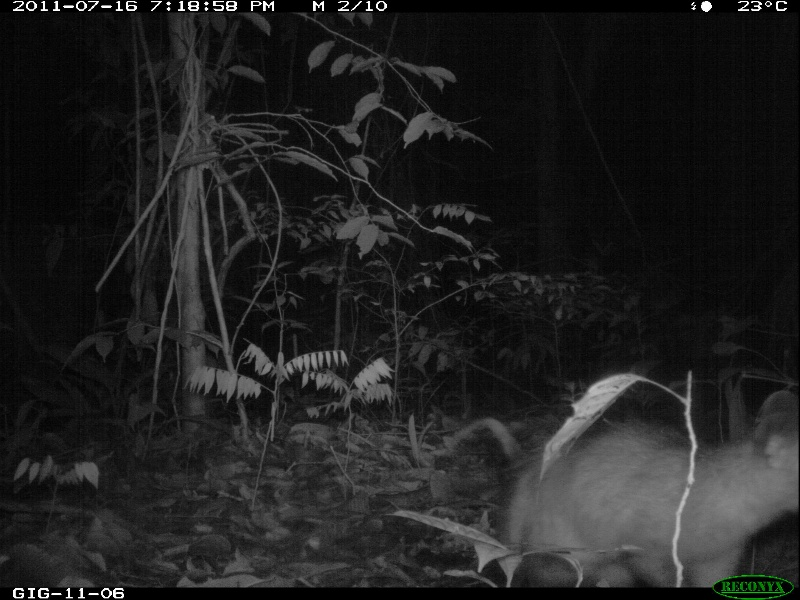opossum: (433, 403, 796, 580)
